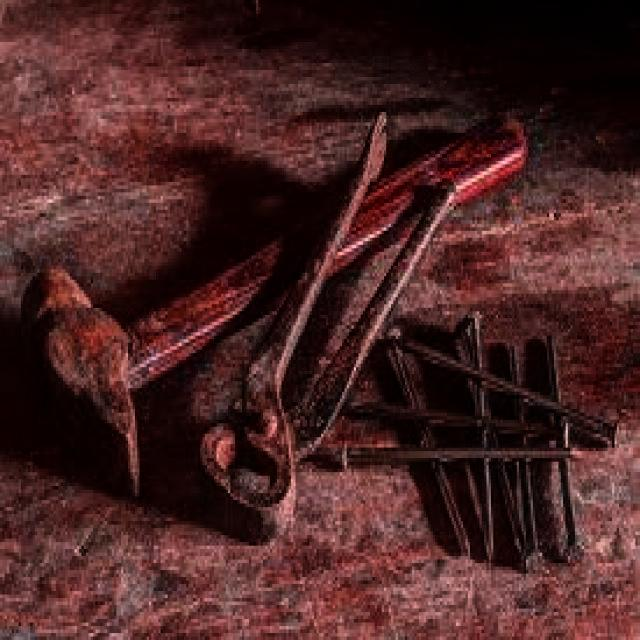hammer: (23, 86, 536, 509)
